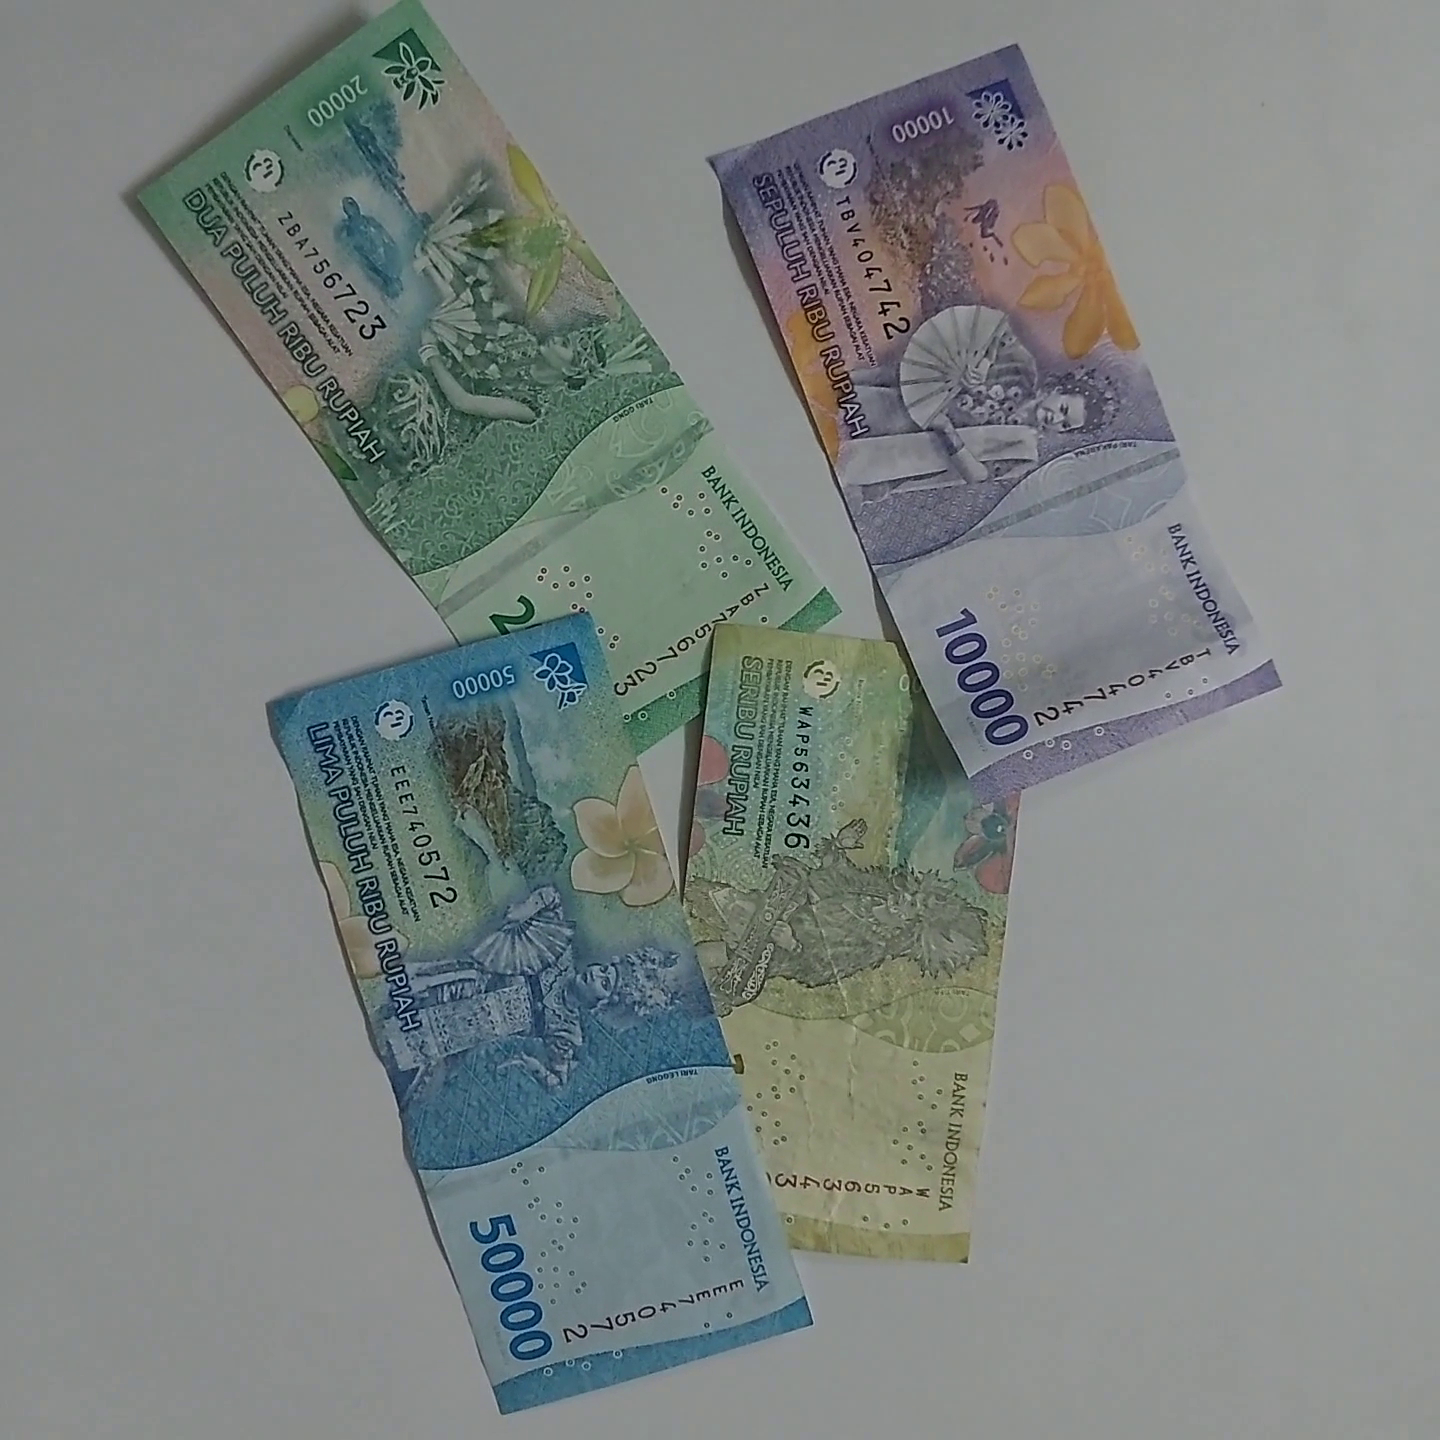1k: (655, 585, 1077, 1283), (832, 638, 1167, 1408)
50k: (269, 695, 608, 1440)
